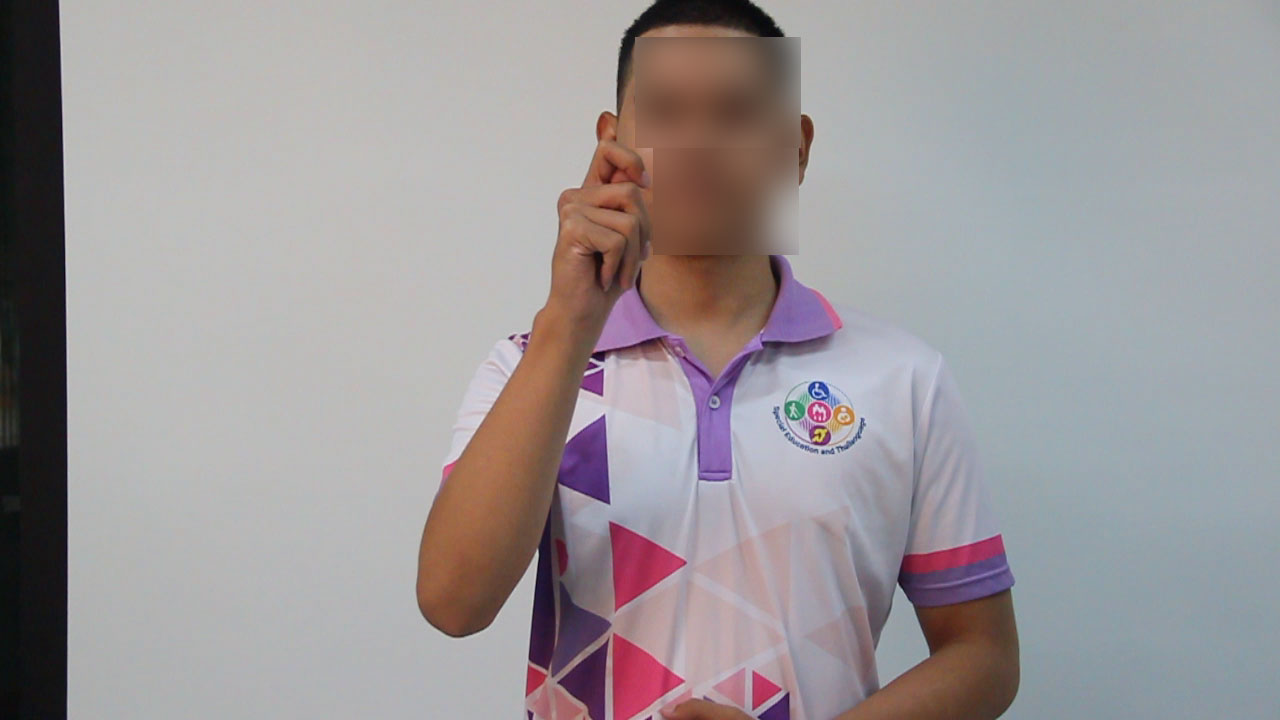or: (541, 131, 659, 331)
